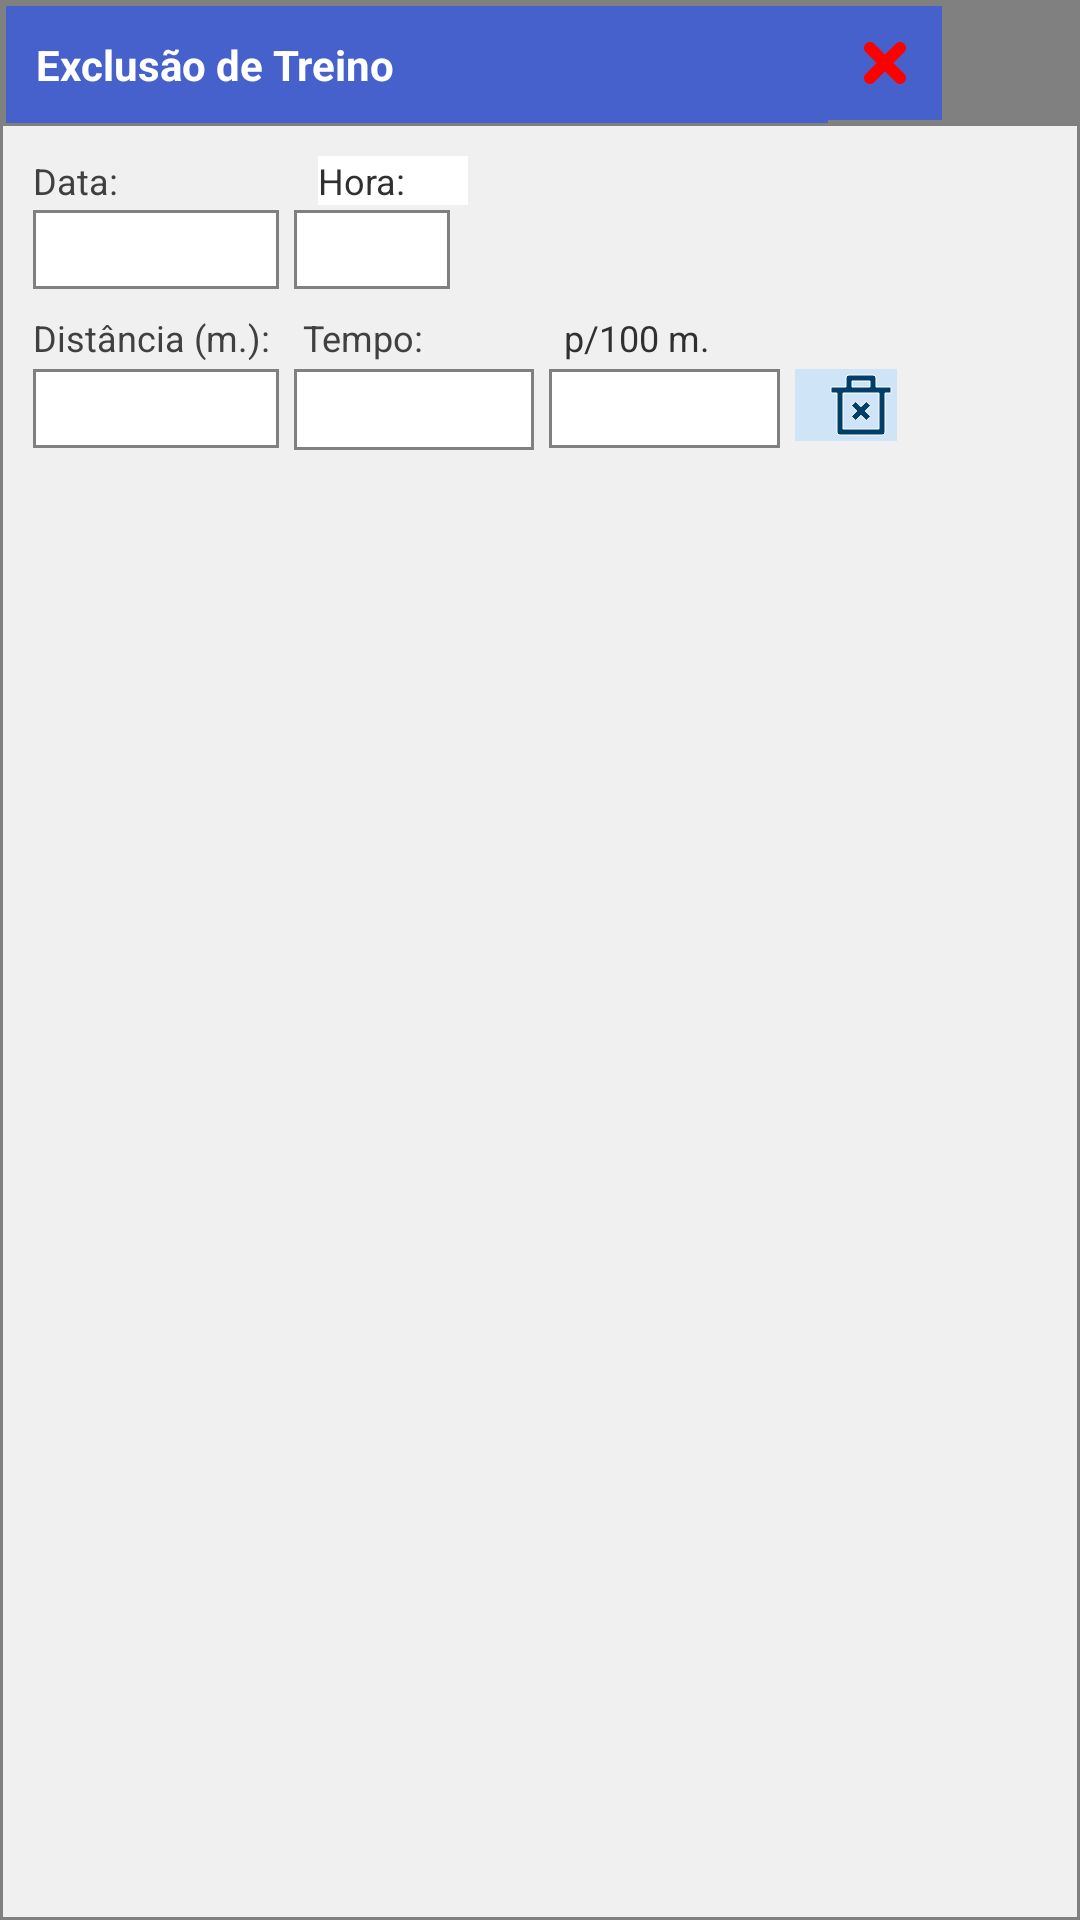

Screen size 1080w x 1920h. Icon name, then its box in pixels as (x1, y1, x2, y2):
close: (828, 6, 942, 120)
delete: (795, 369, 897, 441)
